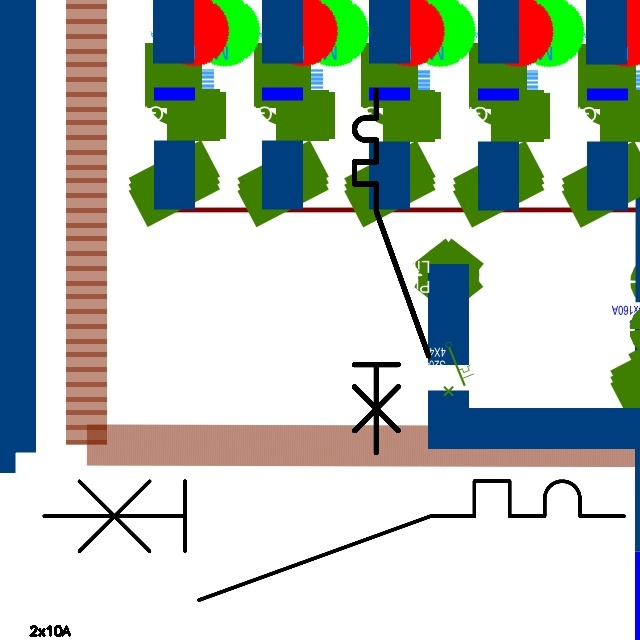interruptor_termomagnetico: (29, 466, 639, 615), (345, 81, 438, 462)
